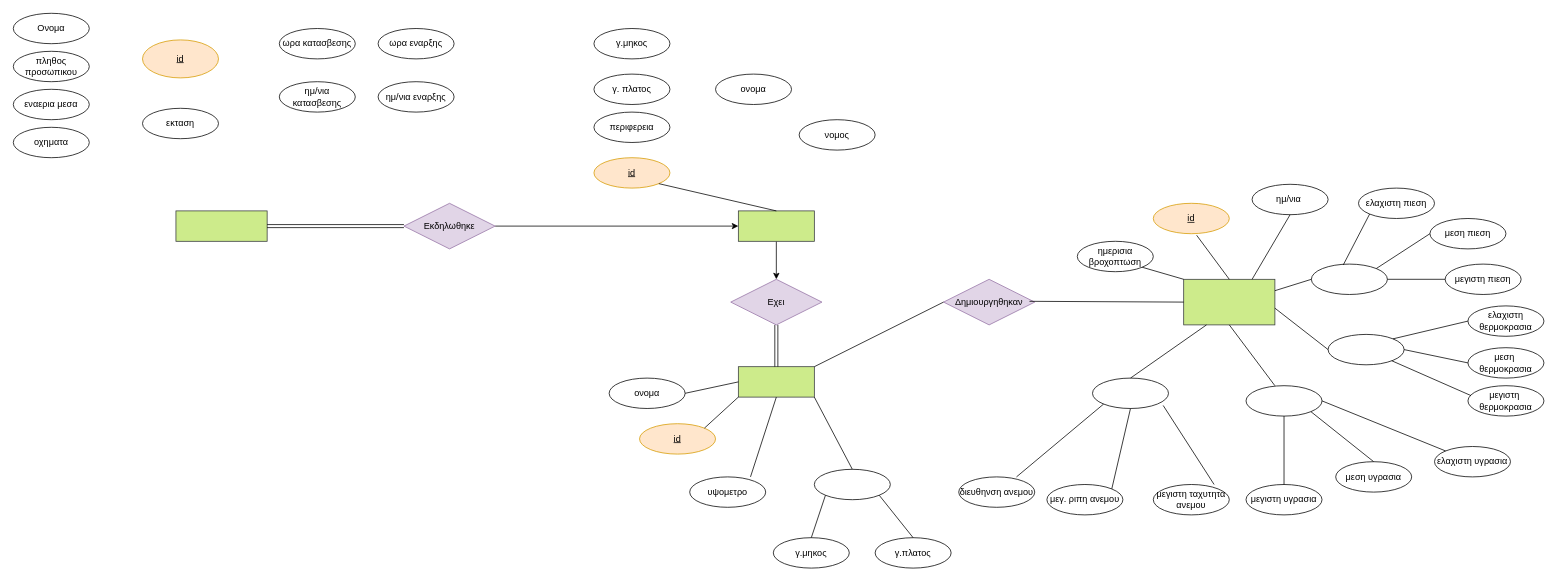
This 1557x581 diagram has some shape labels left out. Each missing label, with the box of its shape:
ανεμος: (1092, 377, 1168, 408)
Δεδομενα: (1183, 279, 1275, 325)
δημος: (738, 210, 814, 241)
Θερμοκρασια: (1327, 334, 1404, 365)
Μετερεολογικος σταθμος: (738, 366, 814, 397)
πιεση: (1311, 263, 1387, 294)
Πυρκαγια: (175, 210, 267, 241)
τοποθεσια: (814, 469, 890, 500)
υγρασια: (1245, 385, 1322, 416)
